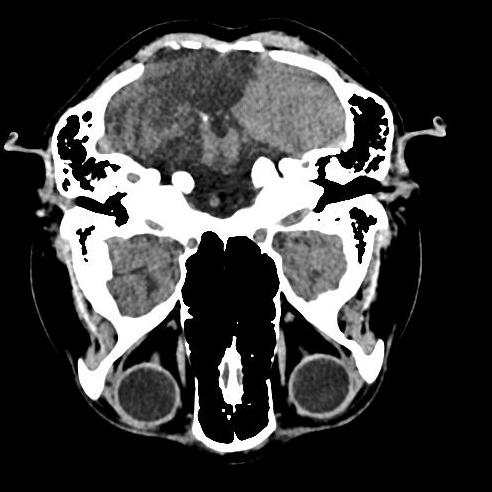Cancer: (129, 44, 272, 130)
